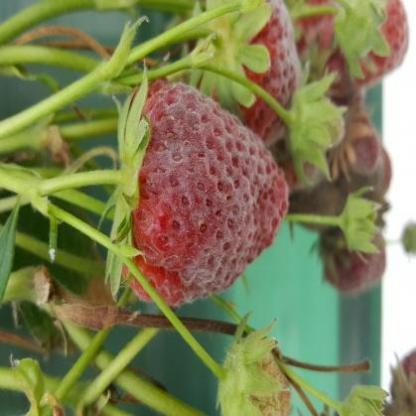Strawberry_Powdery_Mildew_Fruit: (115, 78, 290, 308)
